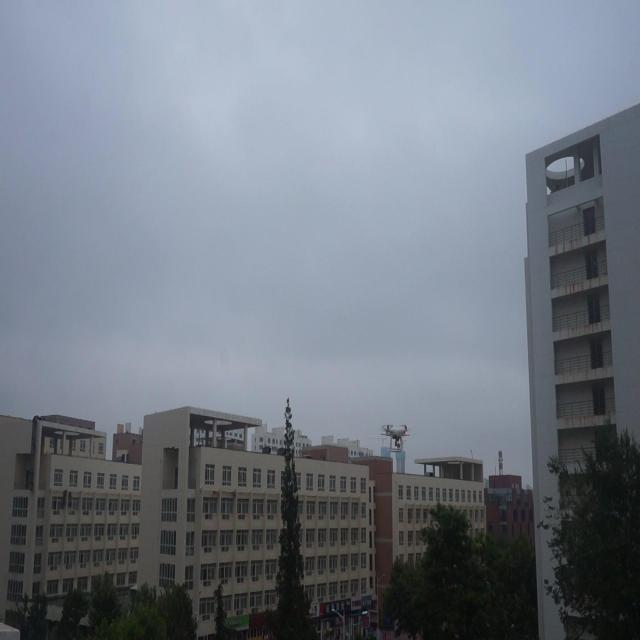drone: (379, 418, 410, 454)
